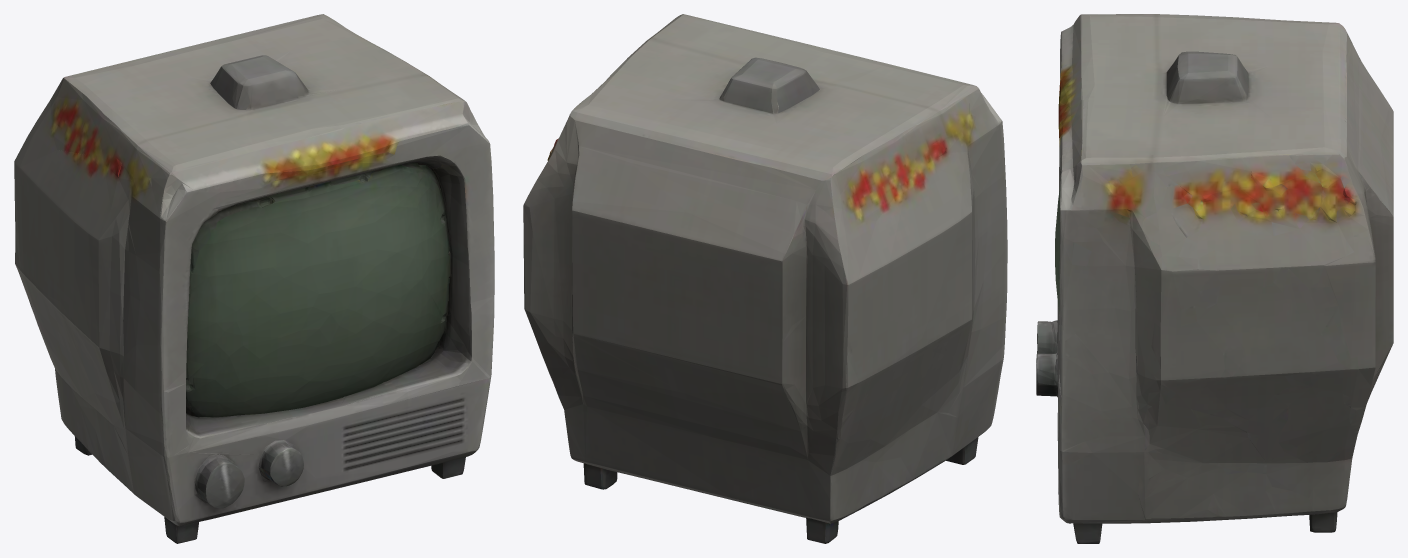
The picture shows the model from 3 angles, left to right: view 1: azimuth 30°, elevation 25°; view 2: azimuth 150°, elevation 25°; view 3: azimuth 270°, elevation 25°; orthographic projection. The views are drawn at different scales.
Parts seen in each view (by area): view 1: geometry_0; view 2: geometry_0; view 3: geometry_0.
Part boxes in pixels (x1,y1,x2,y2): geometry_0: [14, 14, 494, 543]; geometry_0: [523, 14, 1007, 543]; geometry_0: [1036, 14, 1393, 543].
Size of the model in its own units: 0.9565 by 0.9998 by 0.792.
Materials: 1 (1 with a texture image).
